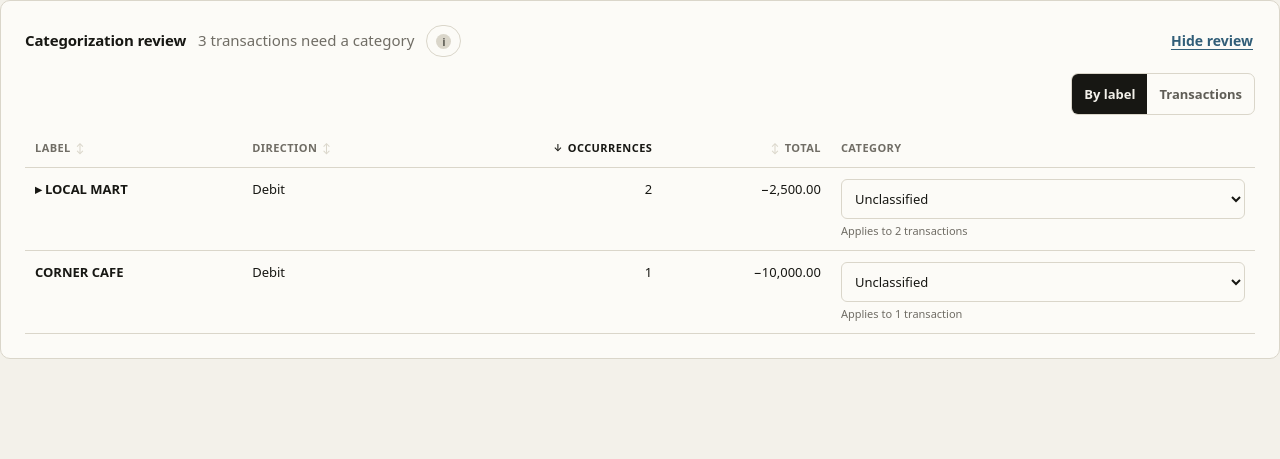
Test: transaction category controls › ranks normalized labels by frequency and categorizes a whole label group
The image size is (1280, 459).
Expected: the row "▸ LOCAL MART Debit 2 −2,500.00 Applies to 2 transactions" is shown, [25, 167, 1255, 250]
Ordering is in the column headings now: click Total to rank by value.
Click the button "Total ↕" at coordinates (796, 148), box [771, 140, 821, 156]
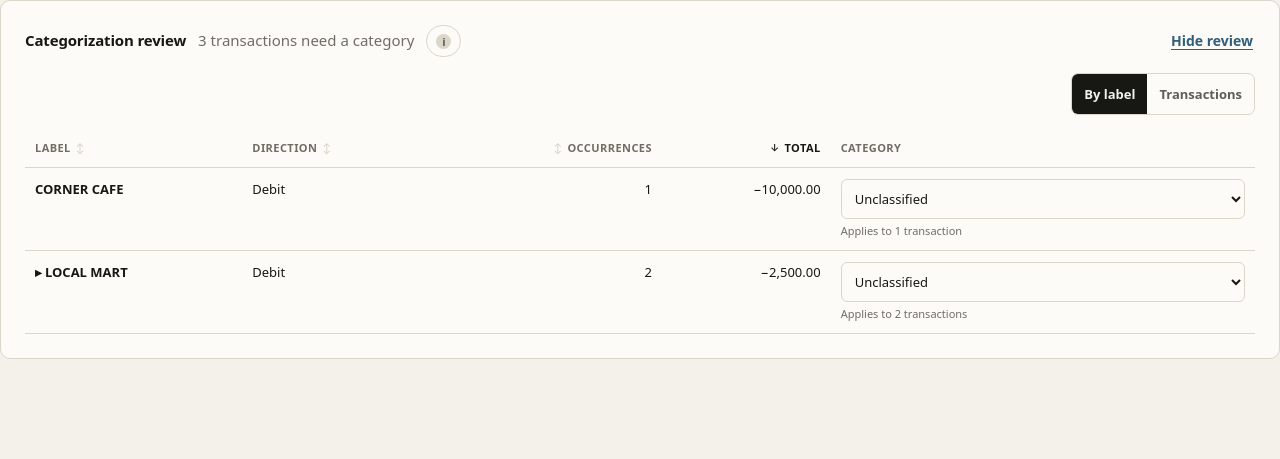
Expected: the row "CORNER CAFE Debit 1 −10,000.00 Applies to 1 transaction" is shown, [25, 167, 1255, 250]
Click the button "Occurrences ↕" at coordinates (603, 148), box [554, 140, 652, 156]
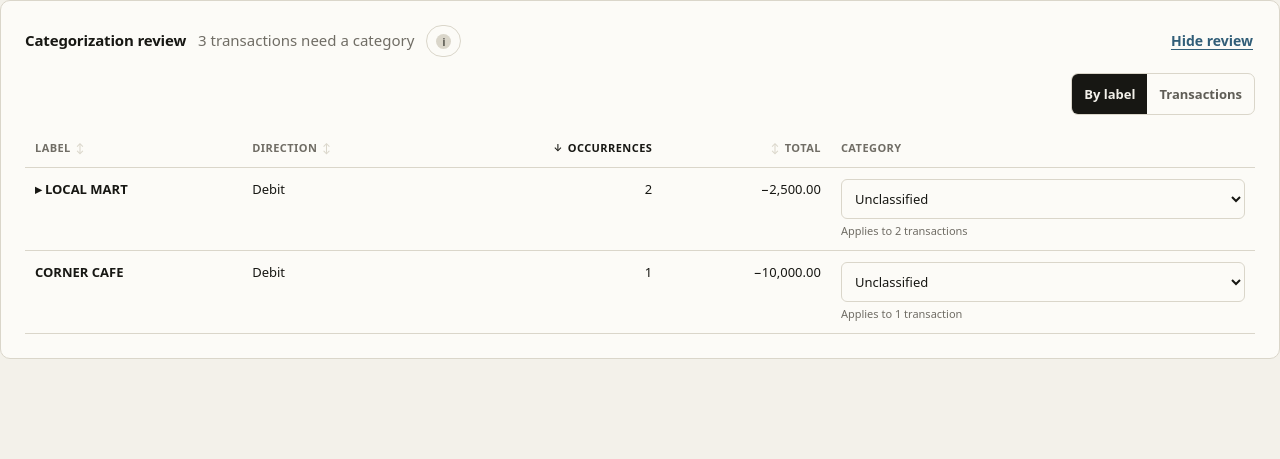
Select "Groceries" in the dropdown named "Category for LOCAL MART debit" at coordinates (1043, 198), box [841, 178, 1245, 218]
Click the button "Transactions" at coordinates (1201, 94), box [1147, 74, 1254, 114]
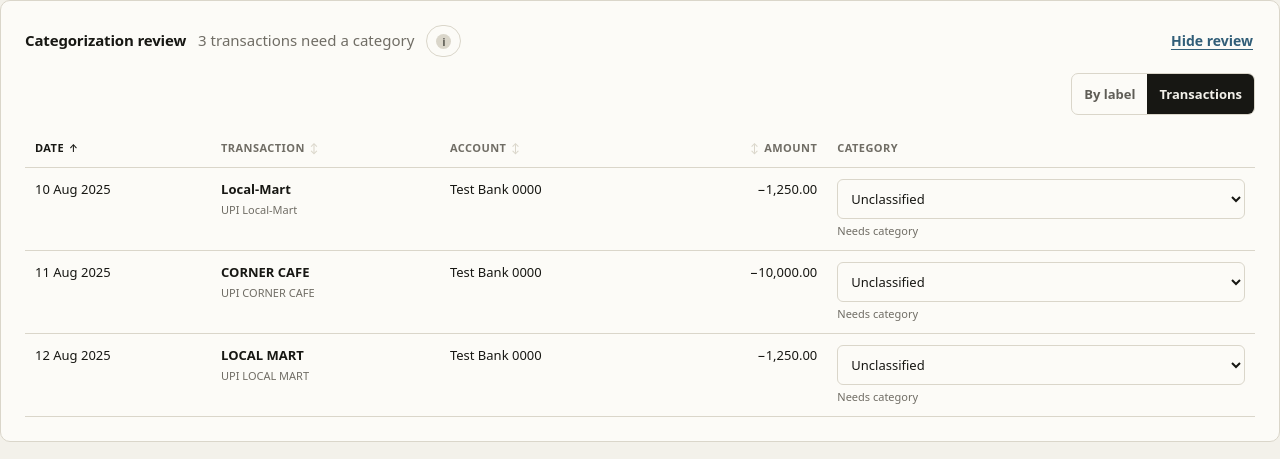
Expected: the column heading "Date" is shown, [25, 129, 211, 167]
